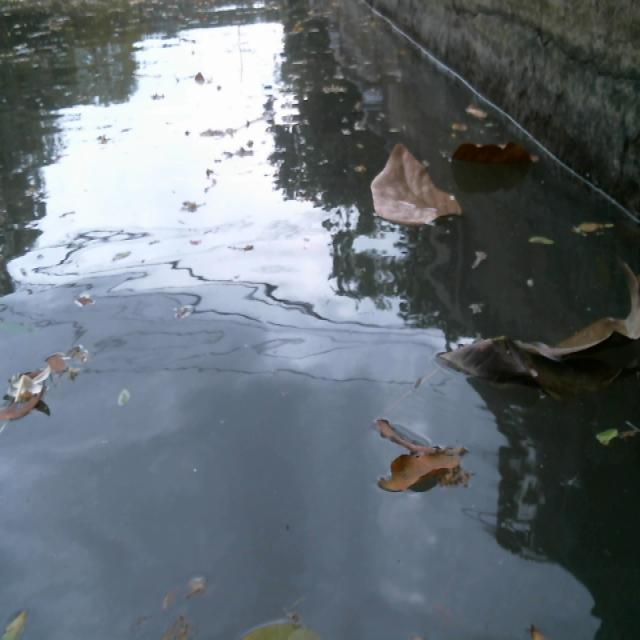Big-leaf: (438, 259, 640, 410), (363, 414, 470, 525), (367, 148, 468, 243), (452, 136, 553, 170)
Small-leaf: (0, 321, 96, 413), (232, 611, 345, 640), (575, 225, 640, 259), (0, 581, 37, 640), (589, 417, 640, 453), (455, 101, 502, 136), (528, 228, 563, 259)
